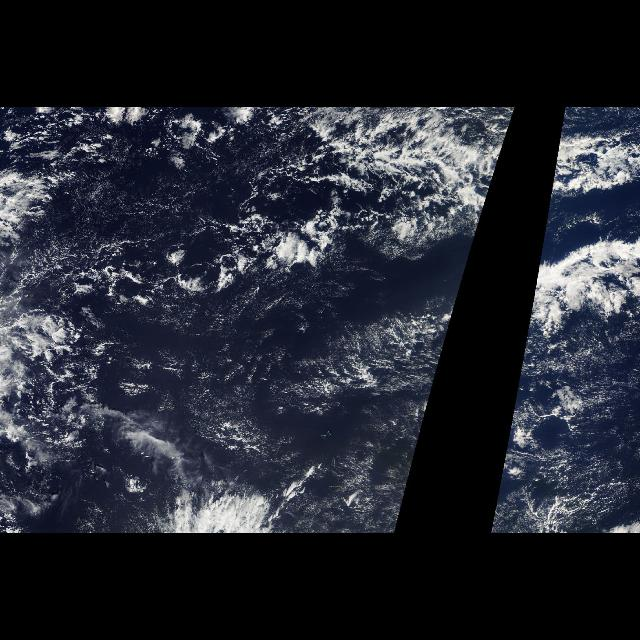Fish: (264, 107, 516, 220), (524, 246, 640, 340), (545, 107, 639, 220), (446, 246, 472, 338)
Gravel: (18, 192, 376, 476)
Sugar: (120, 290, 446, 498), (65, 183, 225, 243)
